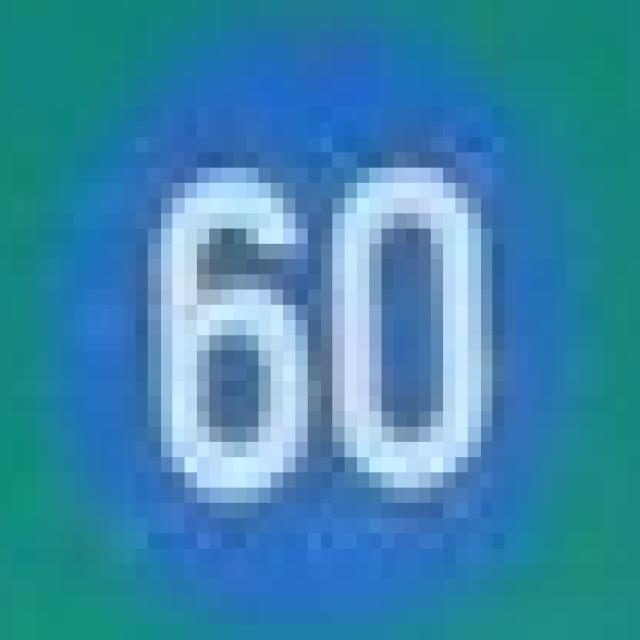Bien bao ben xe bus: (0, 0, 628, 625)
Bien bao han che chieu cao: (135, 122, 492, 518)
